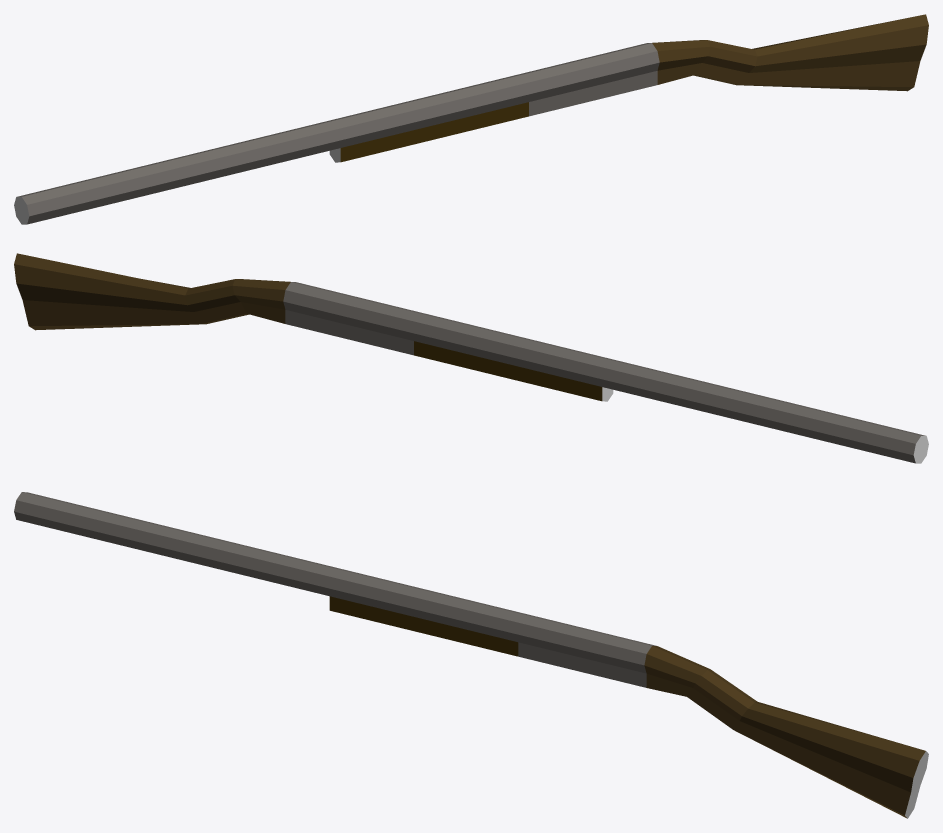
File: Shotgun.fbx
The picture shows the model from 3 angles, top to bottom: view 1: azimuth 30°, elevation 25°; view 2: azimuth 150°, elevation 25°; view 3: azimuth 330°, elevation 25°; orthographic projection.
Visible parts, largest first — view 1: pCylinder1; view 2: pCylinder1; view 3: pCylinder1.
Part boxes in pixels (x1,y1,x2,y2): pCylinder1: [14, 14, 928, 224]; pCylinder1: [14, 253, 928, 463]; pCylinder1: [14, 492, 928, 818].
Bounding box in the file's own units: 2.82 × 0.3291 × 0.0828.
